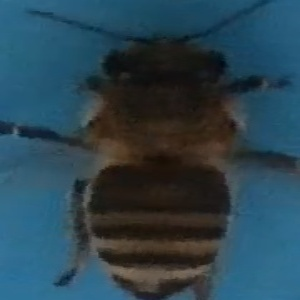bee: (2, 10, 293, 298)
